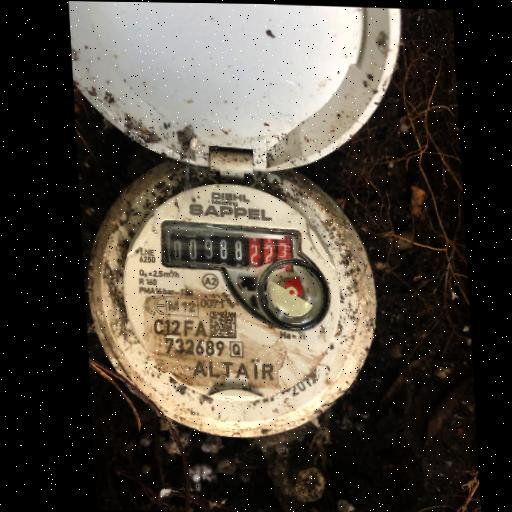0: (168, 232, 188, 262), (183, 233, 203, 263)
2: (244, 238, 263, 268), (258, 238, 277, 267)
3: (273, 239, 292, 263)
8: (229, 236, 248, 267), (214, 236, 233, 266)
9: (199, 234, 219, 263)
border_water_meter_number: (158, 221, 305, 277)
